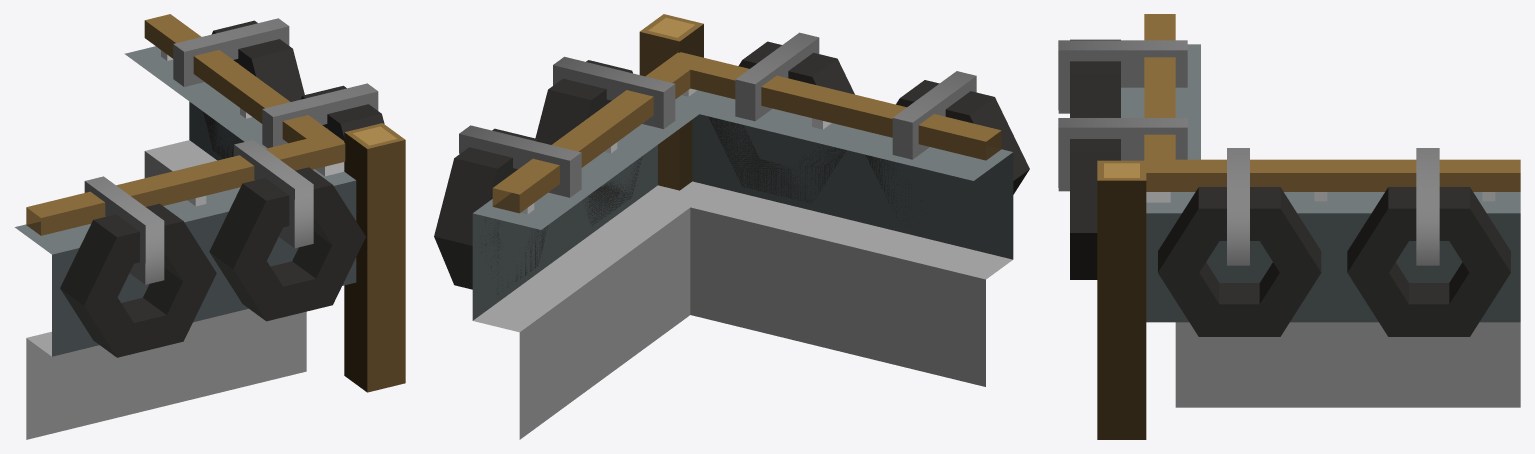
File: Turning_L.fbx
3 renders of one model, left to right at view 1: azimuth 30°, elevation 25°; view 2: azimuth 150°, elevation 25°; view 3: azimuth 270°, elevation 25°, orthographic. The views are drawn at different scales.
Parts seen in each view (by area): view 1: Turning001; view 2: Turning001; view 3: Turning001.
Part boxes in pixels (x1,y1,x2,y2): Turning001: (14, 14, 405, 439); Turning001: (434, 14, 1029, 439); Turning001: (1058, 14, 1520, 439).
Bounding box in the file's own units: 427 × 264 × 427.
